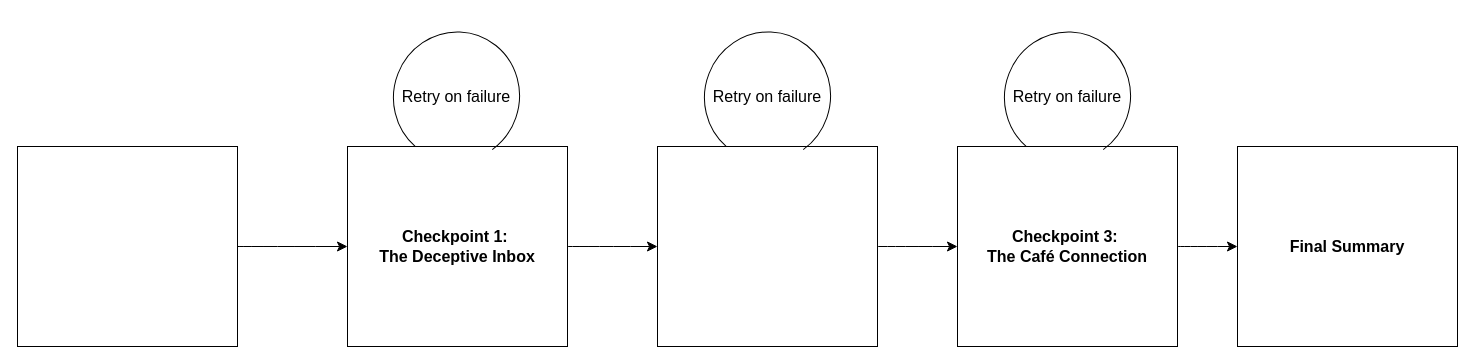
Image size: 1475x364. Some labels were removed from this diagram. Each missing label, with the centre of its shape:
Checkpoint 2: The Profile Problem: [767,246]
Start Screen: [127,246]
